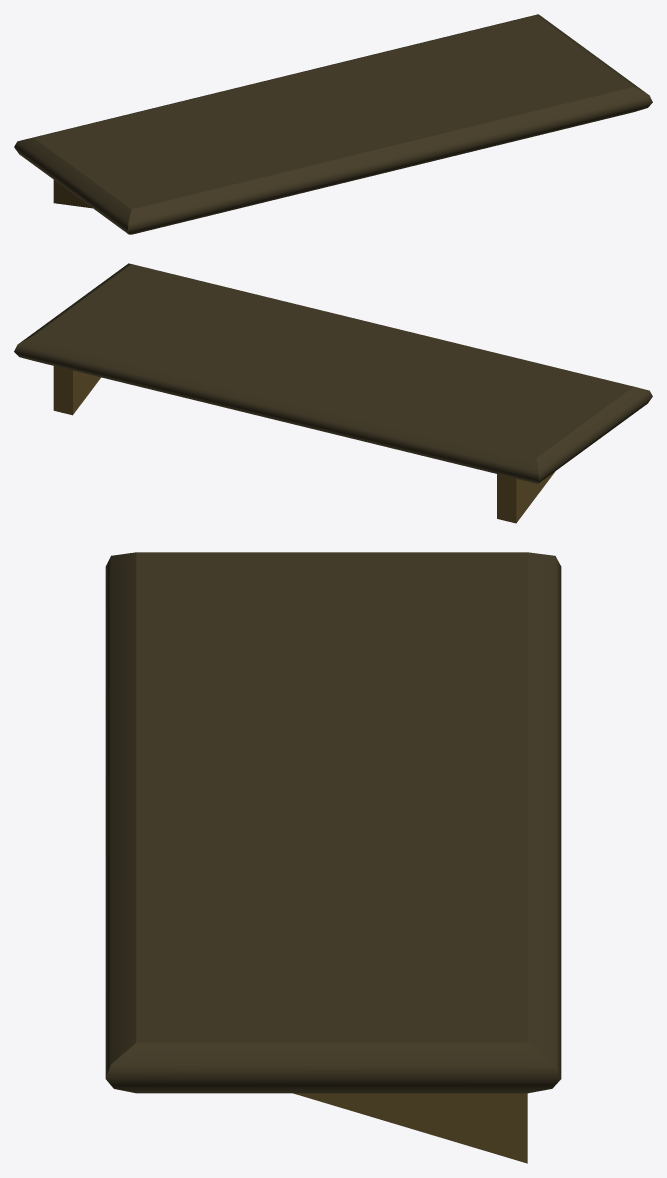
Rendered from estantepared.fbx.
3 renders of one model, top to bottom at view 1: azimuth 30°, elevation 25°; view 2: azimuth 150°, elevation 25°; view 3: azimuth 270°, elevation 25°, orthographic. The views are drawn at different scales.
Parts seen in each view (by area): view 1: Cube.001; view 2: Cube.001; view 3: Cube.001.
Boxes of the visible parts, x1,y1,x2,y2 form: Cube.001: (14,14,652,234); Cube.001: (14,263,652,523); Cube.001: (105,552,561,1163).
Size of the model in its own units: 620 by 79.16 by 233.
